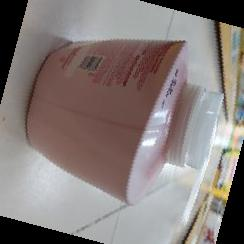sunsilk pink: (24, 33, 224, 209)
